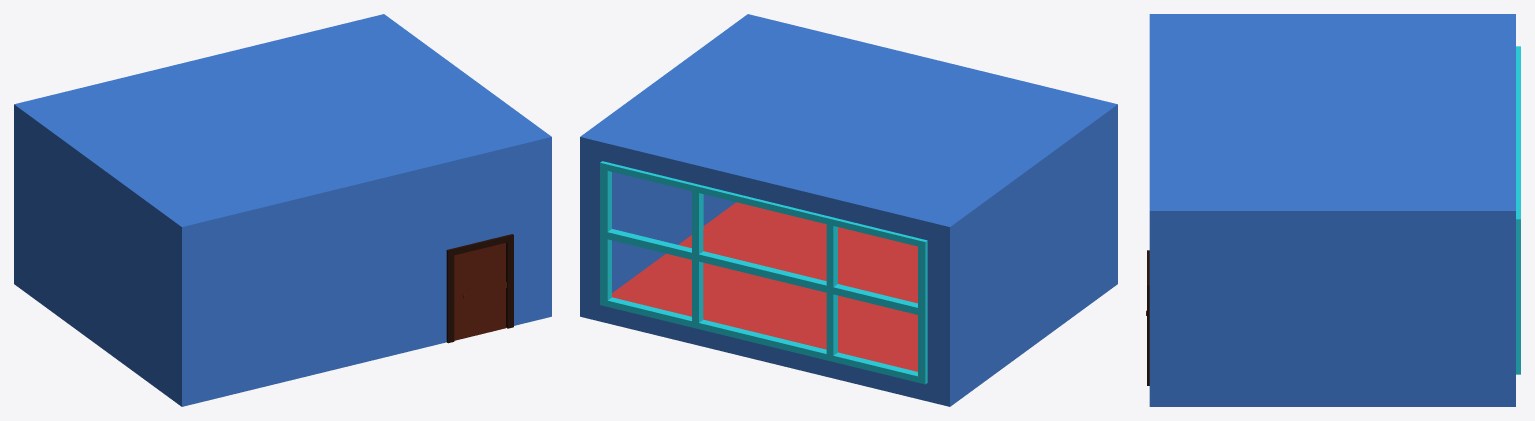
File: office.fbx
The picture shows the model from 3 angles, left to right: view 1: azimuth 30°, elevation 25°; view 2: azimuth 150°, elevation 25°; view 3: azimuth 270°, elevation 25°; orthographic projection. The views are drawn at different scales.
Visible parts, largest first — view 1: Object001, Plane001, Object002, Box003, Box002; view 2: Object001, Object002, Object004, Object003, Object006, Object005; view 3: Object001, Object005, Object006, Box002.
Boxes of the visible parts, left/top/right/bottom form: Object001: left=14, top=14, right=551, bottom=226; Plane001: left=182, top=137, right=551, bottom=406; Object002: left=14, top=104, right=181, bottom=406; Box003: left=454, top=243, right=506, bottom=340; Box002: left=446, top=234, right=513, bottom=343; Object001: left=580, top=14, right=1117, bottom=226; Object002: left=950, top=104, right=1117, bottom=406; Object004: left=612, top=202, right=917, bottom=371; Object003: left=580, top=137, right=949, bottom=406; Object006: left=600, top=161, right=927, bottom=384; Object005: left=612, top=172, right=735, bottom=292; Object001: left=1149, top=14, right=1515, bottom=210; Object005: left=1149, top=211, right=1515, bottom=406; Object006: left=1516, top=46, right=1520, bottom=374; Box002: left=1147, top=250, right=1149, bottom=385.
Bounding box in the file's own units: 140 × 65 × 113.
